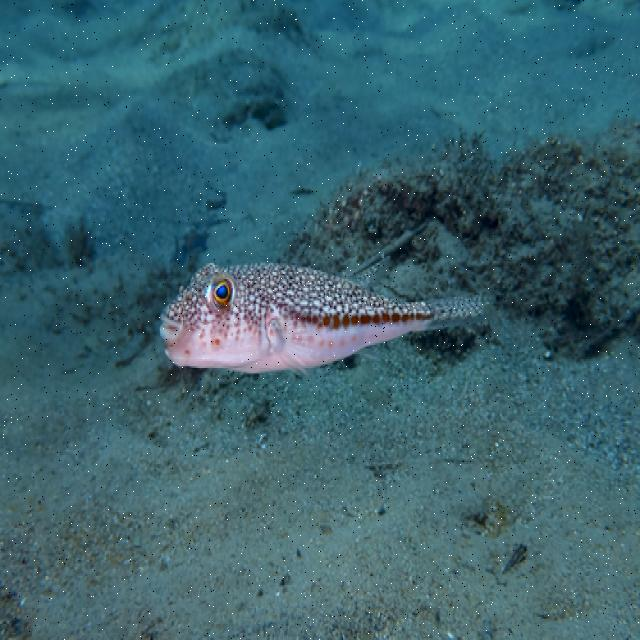Balik: (160, 264, 486, 373)
